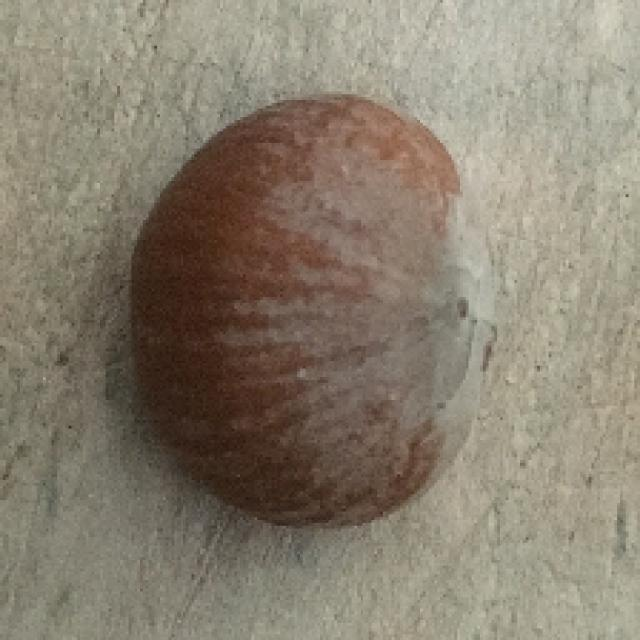qualityHazelnut: (117, 90, 494, 540)
